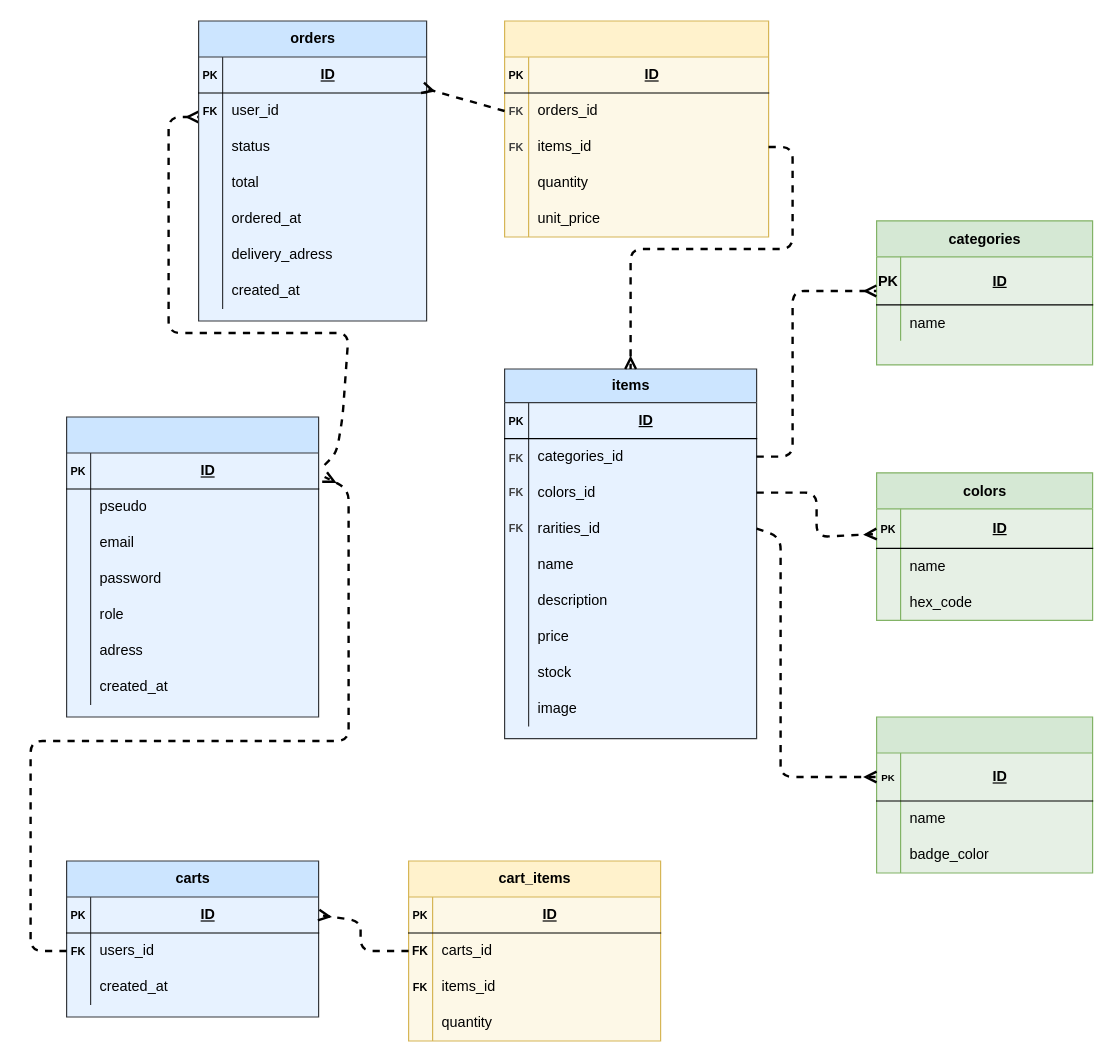
This 1114x1062 diagram has some shape labels left out. The box of each missing label's shape, as (x1, y1, x2, y2) in pixels:
order_items: (503, 20, 769, 237)
rarities: (875, 716, 1093, 873)
users: (65, 416, 319, 717)
